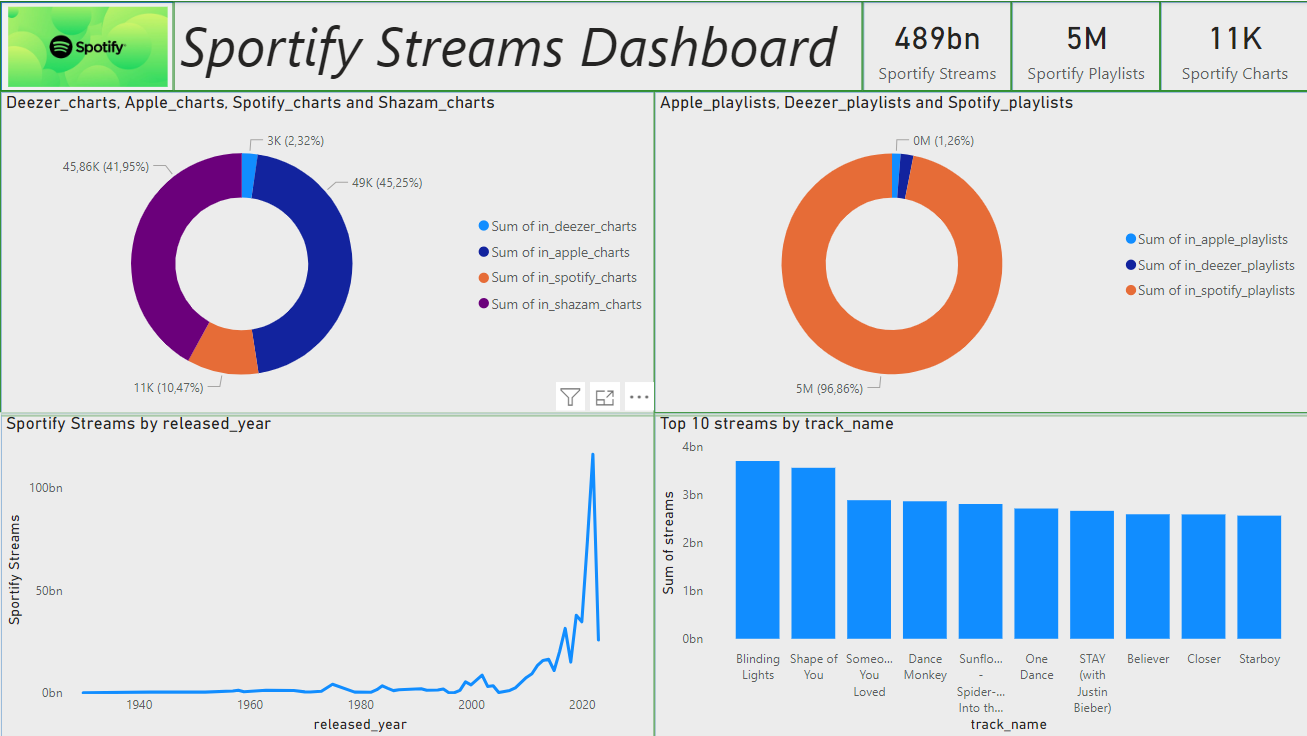

The page's visual inventory and layout, read from the dashboard file:
{"tool":"powerbi","page":{"name":"Page 1","canvas":[1280,720],"ordinal":0},"visuals":[{"type":"shape","box":[0,0,1280.3,87.8],"z":0},{"type":"shape","box":[0,87.8,640.8,318.4],"z":1000},{"type":"shape","box":[639.5,87.8,640.8,318.4],"z":2000},{"type":"shape","box":[0,402.4,640.8,317.8],"z":3000},{"type":"shape","box":[639.5,402.1,640.8,318.4],"z":4000},{"type":"image","box":[0,0,170,88],"z":5000},{"type":"textbox","box":[170,0,673.8,88],"z":6000},{"type":"donutChart","title":"Deezer_charts, Apple_charts, Spotify_charts and Shazam_charts","fields":{"Y":["Sum(Popular_Spotify_Songs.in_deezer_charts)","Sum(Popular_Spotify_Songs.in_apple_charts)","Sum(Popular_Spotify_Songs.in_spotify_charts)","Sum(Popular_Spotify_Songs.in_shazam_charts)"]},"box":[0,88.6,640.8,317.8],"z":7000},{"type":"donutChart","title":"Apple_playlists,  Deezer_playlists and Spotify_playlists","fields":{"Y":["Sum(Popular_Spotify_Songs.in_apple_playlists)","Sum(Popular_Spotify_Songs.in_deezer_playlists)","Sum(Popular_Spotify_Songs.in_spotify_playlists)"]},"box":[639.5,88.6,640.8,317.8],"z":8000},{"type":"lineChart","fields":{"Category":["Popular_Spotify_Songs.released_year"],"Y":["Popular_Spotify_Songs.Sportify Streams"]},"box":[0,402.4,640.8,317.8],"z":9000},{"type":"shape","box":[843.8,0,145.5,88],"z":10000},{"type":"shape","box":[989.3,0,145.5,88],"z":11000},{"type":"shape","box":[1134.8,0,145.5,88],"z":12000},{"type":"card","fields":{"Values":["Popular_Spotify_Songs.Total Streams"]},"box":[843.8,0,145.5,88],"z":13000},{"type":"card","fields":{"Values":["Popular_Spotify_Songs.Sportify Playlists Total"]},"box":[989.3,0,145.5,88],"z":14000},{"type":"card","fields":{"Values":["Popular_Spotify_Songs.Sportify Charts"]},"box":[1134.8,0,145.5,88],"z":15000},{"type":"columnChart","title":"Top 10 streams by track_name","fields":{"Category":["Popular_Spotify_Songs.track_name"],"Y":["Sum(Popular_Spotify_Songs.streams)"]},"box":[639.5,402.4,640.8,317.8],"z":16000}]}

Visuals, with their boxes in screenshot pixels (x1, y1, x2, y2), scaled from the page's 1280x720 canvas onto the 1307x736 screenshot:
shape: crop(0, 0, 1306, 90)
shape: crop(0, 90, 654, 415)
shape: crop(653, 90, 1306, 415)
shape: crop(0, 411, 654, 735)
shape: crop(653, 411, 1306, 735)
image: crop(0, 0, 174, 90)
textbox: crop(174, 0, 862, 90)
"Deezer_charts, Apple_charts, Spotify_charts and Shazam_charts" donutChart: crop(0, 91, 654, 415)
"Apple_playlists,  Deezer_playlists and Spotify_playlists" donutChart: crop(653, 91, 1306, 415)
lineChart - Popular_Spotify_Songs.released_year x Popular_Spotify_Songs.Sportify Streams: crop(0, 411, 654, 735)
shape: crop(862, 0, 1010, 90)
shape: crop(1010, 0, 1159, 90)
shape: crop(1159, 0, 1306, 90)
card - Popular_Spotify_Songs.Total Streams: crop(862, 0, 1010, 90)
card - Popular_Spotify_Songs.Sportify Playlists Total: crop(1010, 0, 1159, 90)
card - Popular_Spotify_Songs.Sportify Charts: crop(1159, 0, 1306, 90)
"Top 10 streams by track_name" columnChart: crop(653, 411, 1306, 735)
